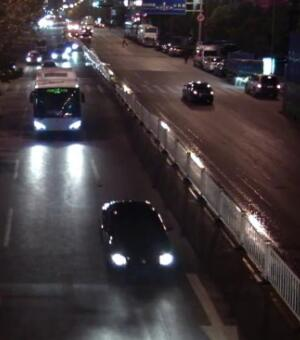bus: (25, 66, 85, 137), (137, 20, 161, 45)
car: (97, 195, 178, 283), (241, 69, 282, 99), (180, 77, 217, 106), (194, 44, 213, 69), (201, 53, 226, 71), (21, 47, 43, 66), (47, 46, 71, 63), (66, 18, 81, 32)
